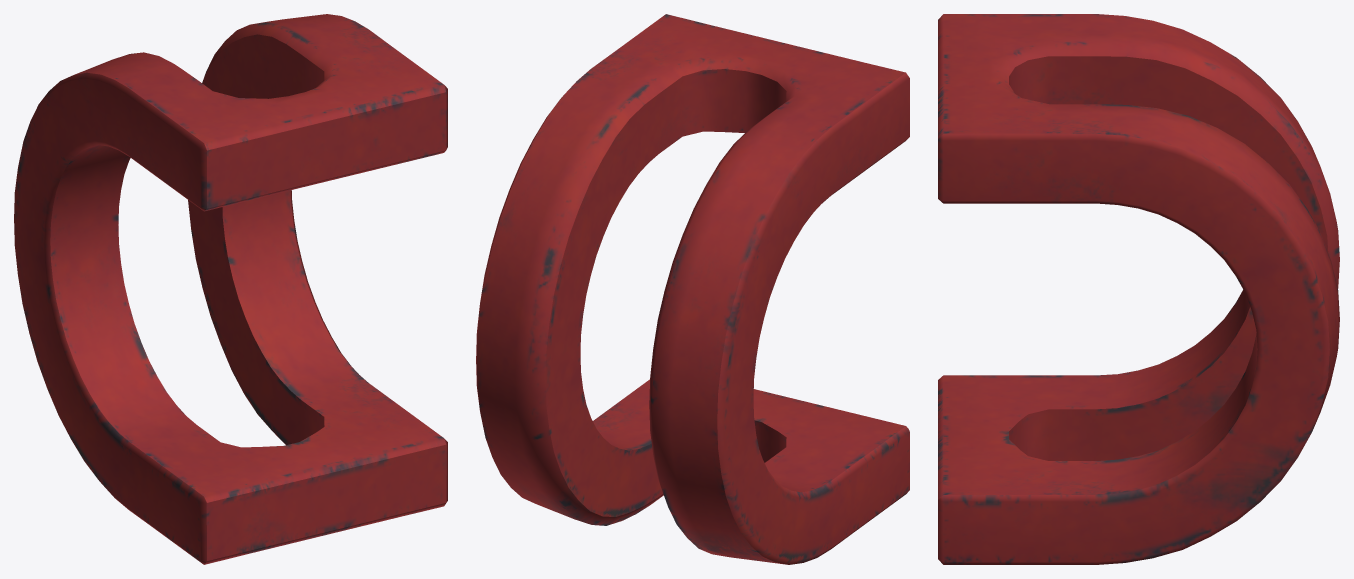
Rendered from SM_Armour_ExpResist_Lower.fbx.
3 renders of one model, left to right at view 1: azimuth 30°, elevation 25°; view 2: azimuth 150°, elevation 25°; view 3: azimuth 270°, elevation 25°, orthographic. The views are drawn at different scales.
Parts seen in each view (by area): view 1: SM_Armour_ExpResist_Lower; view 2: SM_Armour_ExpResist_Lower; view 3: SM_Armour_ExpResist_Lower.
Boxes of the visible parts, left/top/right/bottom form: SM_Armour_ExpResist_Lower: left=14, top=14, right=447, bottom=564; SM_Armour_ExpResist_Lower: left=476, top=14, right=909, bottom=564; SM_Armour_ExpResist_Lower: left=938, top=14, right=1339, bottom=564.
Size of the model in its own units: 33.87 by 55.15 by 46.6.
1 material, 1 textured.
